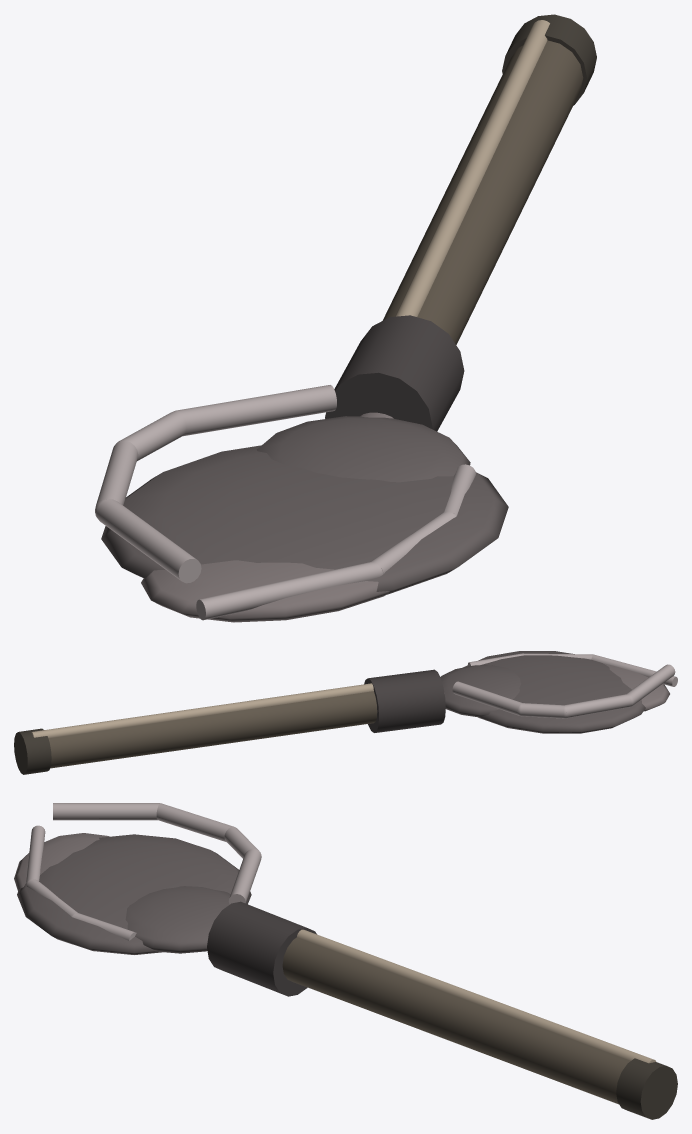
Rendered from CMU3DHandRMCShovelCloud.glb.
3 renders of one model, top to bottom at view 1: azimuth 30°, elevation 25°; view 2: azimuth 150°, elevation 25°; view 3: azimuth 270°, elevation 25°, orthographic. The views are drawn at different scales.
Visible parts, largest first — view 1: continuous pressed spade pan, wooden shaft, steel ferrule, upper blade shoulder, broad lower cutting pan, shaft warm highlight, rolled left scoop edge segment 4, sharpened shovel edge segment 1, rolled left scoop edge segment 1, rounded shaft end, rolled left scoop edge segment 2, rolled left scoop edge segment 3 (+1 smaller); view 2: wooden shaft, continuous pressed spade pan, steel ferrule, shaft warm highlight, upper blade shoulder, rounded shaft end, rolled left scoop edge segment 4, rolled left scoop edge segment 2, broad lower cutting pan, rolled left scoop edge segment 1, rolled left scoop edge segment 3, sharpened shovel edge segment 1 (+1 smaller); view 3: wooden shaft, continuous pressed spade pan, steel ferrule, upper blade shoulder, shaft warm highlight, rounded shaft end, rolled left scoop edge segment 1, broad lower cutting pan, rolled left scoop edge segment 2, rolled left scoop edge segment 4, sharpened shovel edge segment 1, rolled left scoop edge segment 3 (+2 smaller).
Part boxes in pixels (x1,y1,x2,y2): continuous pressed spade pan: (101,445,508,594); wooden shaft: (383,40,583,344); steel ferrule: (325,315,464,431); upper blade shoulder: (257,416,470,482); broad lower cutting pan: (141,560,389,622); shaft warm highlight: (395,20,549,316); rolled left scoop edge segment 4: (176,385,336,436); sharpened shovel edge segment 1: (196,562,379,620); rolled left scoop edge segment 1: (96,499,201,583); rounded shaft end: (502,14,596,105); rolled left scoop edge segment 2: (95,440,138,509); rolled left scoop edge segment 3: (120,411,186,461); wooden shaft: (48,691,377,768); continuous pressed spade pan: (463,651,645,733); steel ferrule: (364,669,445,732); shaft warm highlight: (31,683,373,738); upper blade shoulder: (440,665,520,717); rounded shaft end: (14,728,51,774); rolled left scoop edge segment 4: (452,681,521,715); rolled left scoop edge segment 2: (564,694,630,718); broad lower cutting pan: (603,663,669,711); rolled left scoop edge segment 1: (626,664,675,704); rolled left scoop edge segment 3: (520,703,564,718); sharpened shovel edge segment 1: (591,654,677,686); wooden shaft: (282,937,630,1104); continuous pressed spade pan: (17,834,251,954); steel ferrule: (207,901,316,996); upper blade shoulder: (125,886,230,953); shaft warm highlight: (297,929,656,1063); rounded shaft end: (616,1058,677,1119); rolled left scoop edge segment 1: (53,803,159,820); broad lower cutting pan: (14,833,109,891); rolled left scoop edge segment 2: (156,803,233,841); rolled left scoop edge segment 4: (228,849,261,904); sharpened shovel edge segment 1: (26,825,45,883); rolled left scoop edge segment 3: (224,827,257,858).
Bounding box in the file's own units: 0.712 × 0.0781 × 0.7203.
